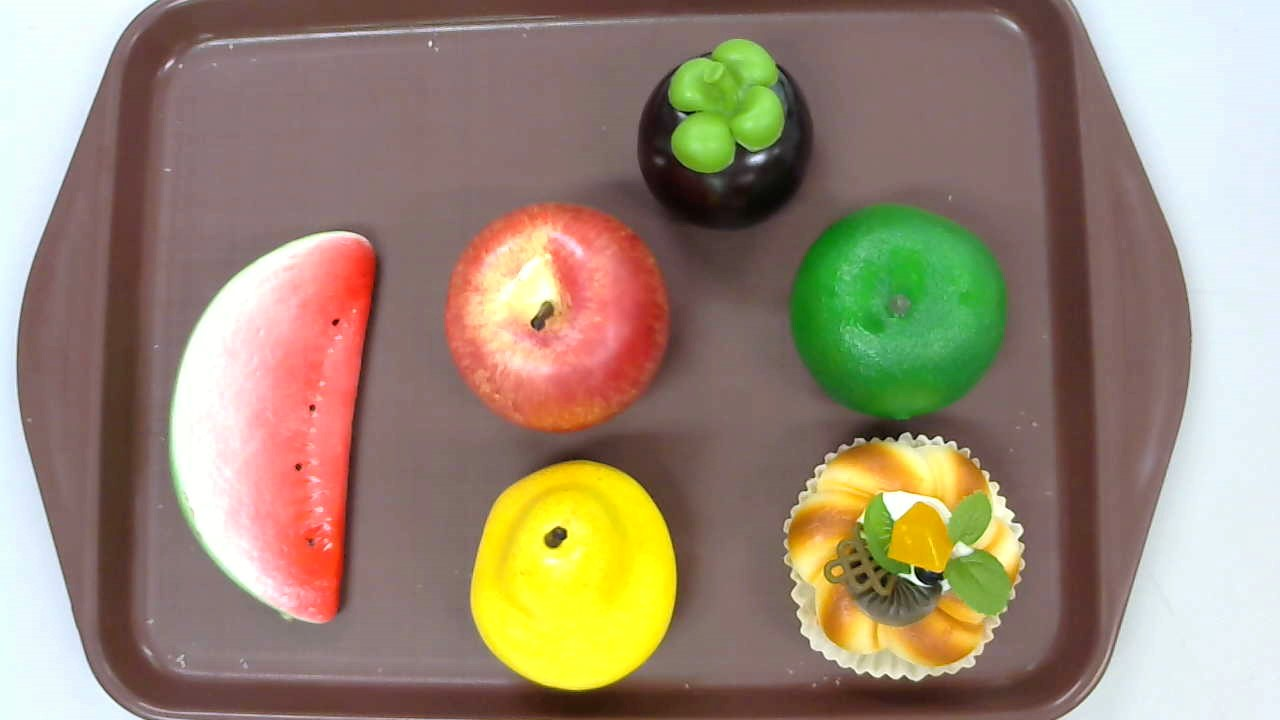fruit tart: (782, 431, 1025, 683)
green orange: (788, 203, 1008, 422)
mangosteen: (636, 38, 813, 229)
red apple: (445, 200, 672, 434)
water melon: (167, 231, 375, 624)
yellow pear: (469, 460, 678, 692)
